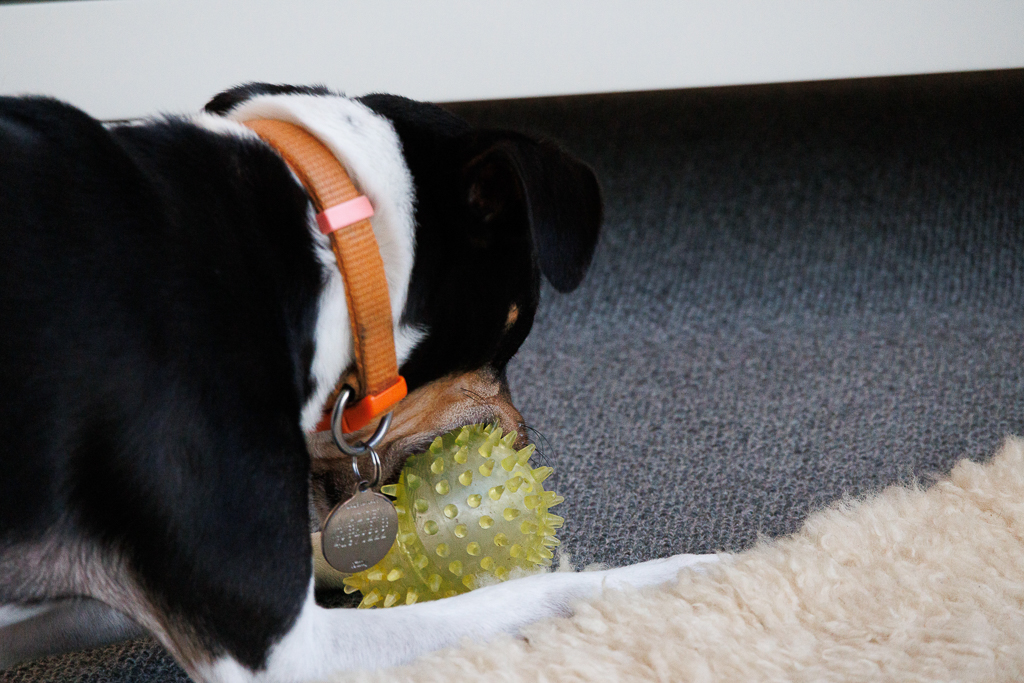Dog: (0, 67, 765, 683)
